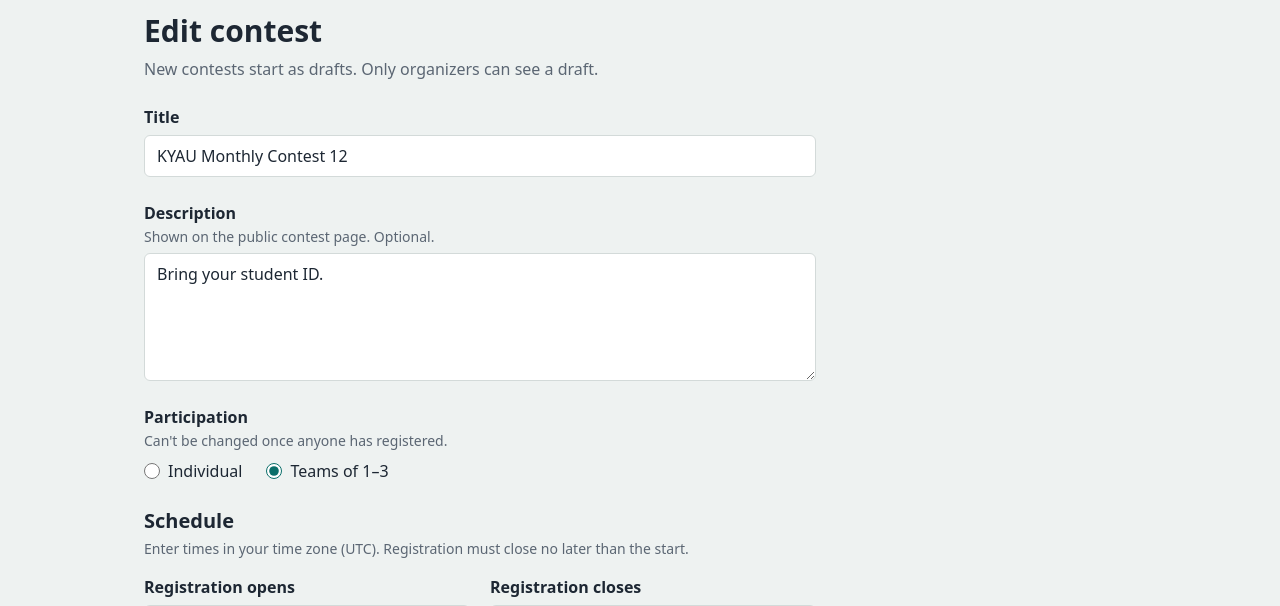
Test: organizer contests › prefills the edit form and saves with PUT
This screenshot has width=1280, height=606.
Replace the text in the field labelled "Title" with "Renamed" at (480,156), box left=144, top=135, right=816, bottom=177
(page scrolled)
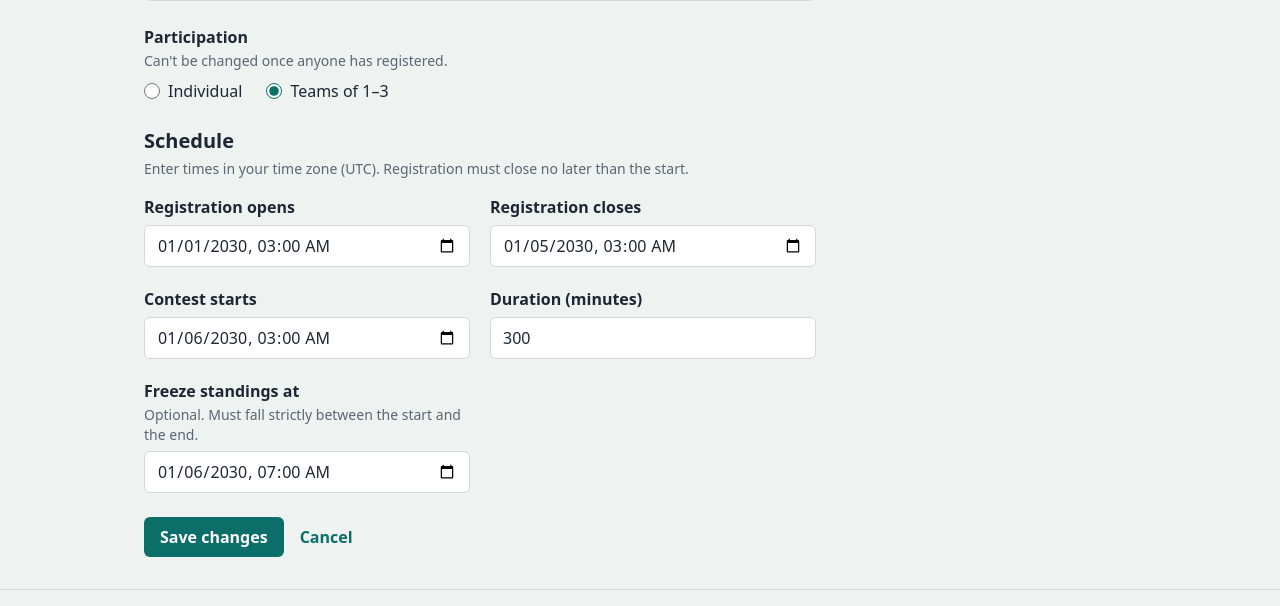
Click the button "Save changes".
click(214, 537)  # box left=144, top=517, right=284, bottom=557
(page scrolled)
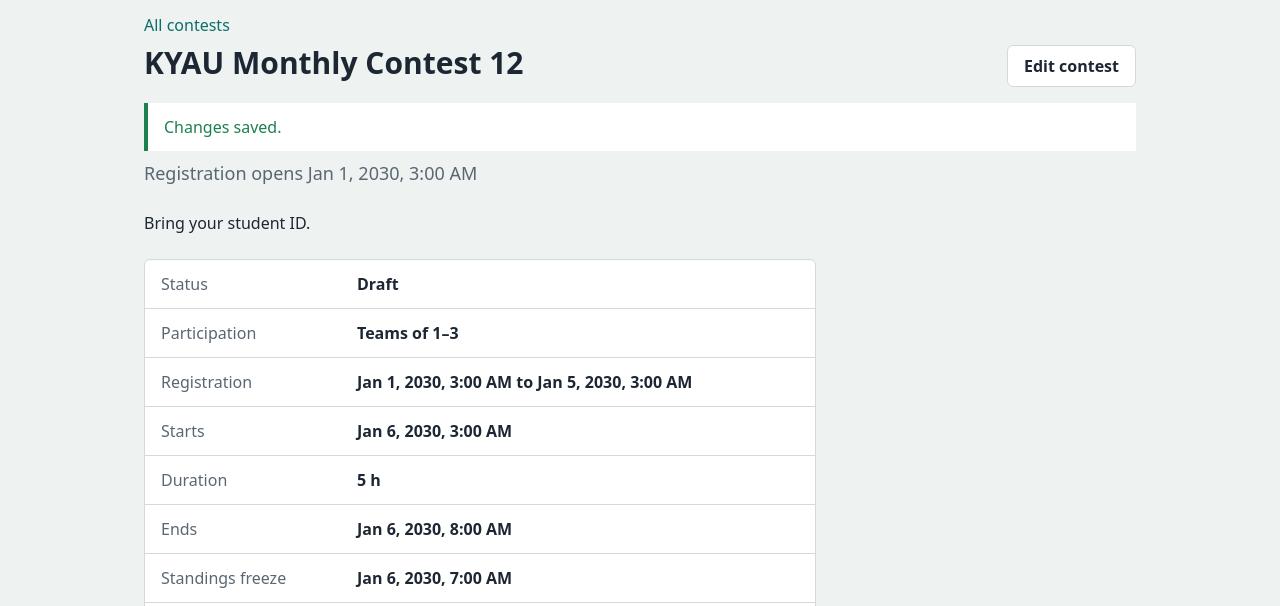
Result: the text "Changes saved." is shown at left=144, top=103, right=1136, bottom=151
